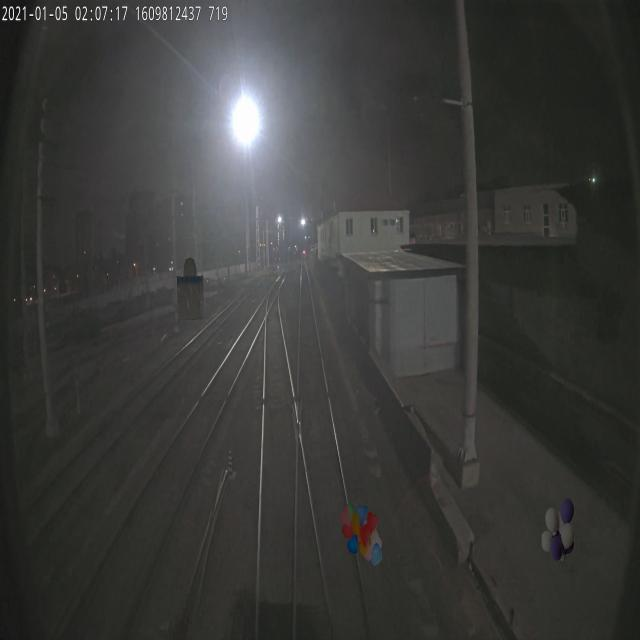balloon: (340, 502, 383, 566), (541, 497, 575, 561)
plastic bag: (176, 257, 204, 321)
